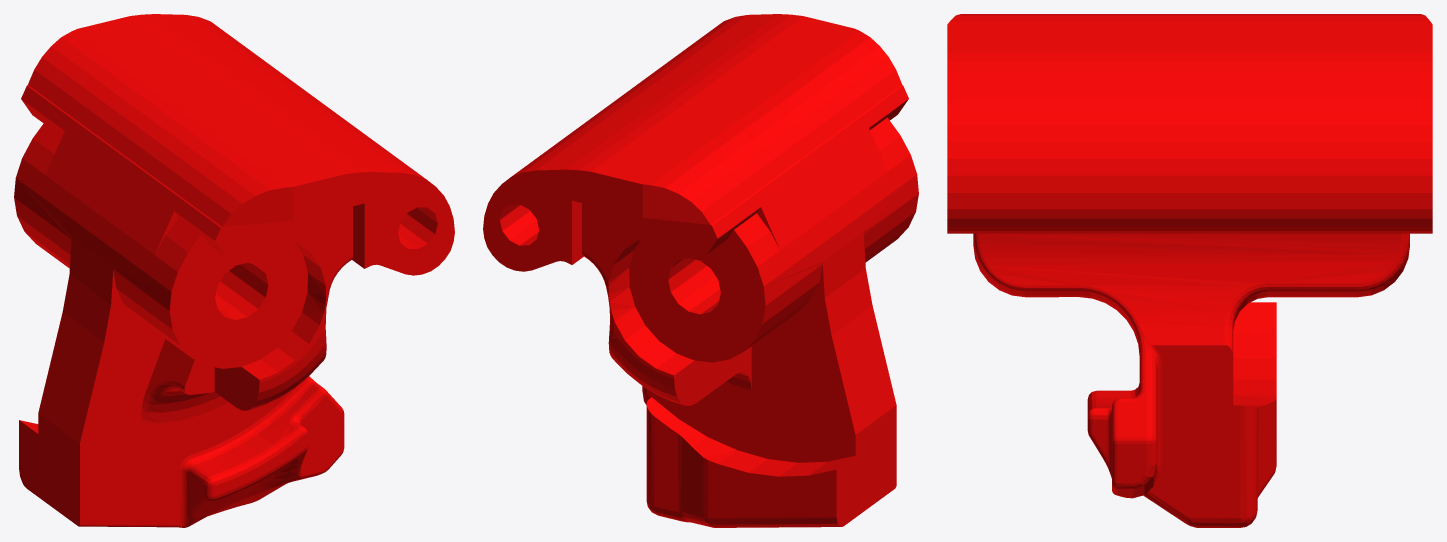
The model's file is power_cart_buffera2_visuals_buffera2_mesh.obj.
3 views of the same model, side by side, from view 1: azimuth 30°, elevation 25°; view 2: azimuth 150°, elevation 25°; view 3: azimuth 270°, elevation 25° (orthographic). The views are drawn at different scales.
Size of the model in its own units: 0.2169 by 0.2963 by 0.28.
